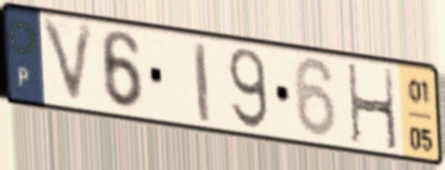6: (291, 54, 343, 144), (99, 27, 147, 115)
9: (224, 46, 271, 133)
H: (344, 61, 401, 155)
I: (191, 38, 213, 126)
V: (37, 13, 99, 111)
